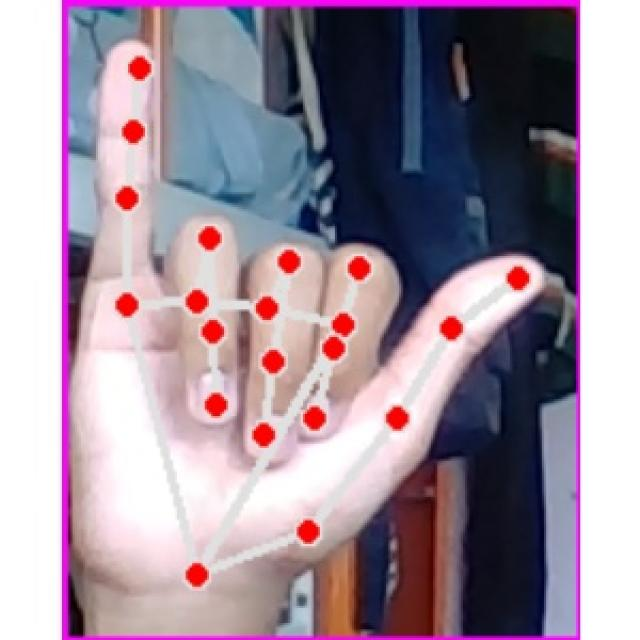Y: (79, 33, 553, 588)
